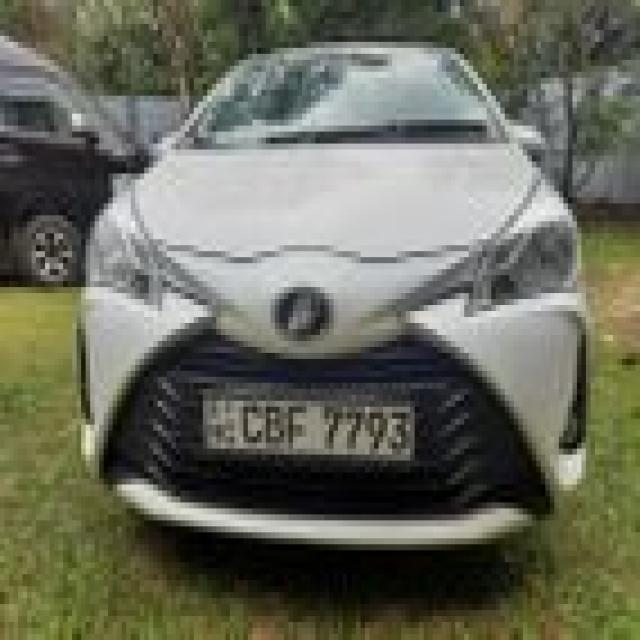car: (62, 28, 594, 570)
